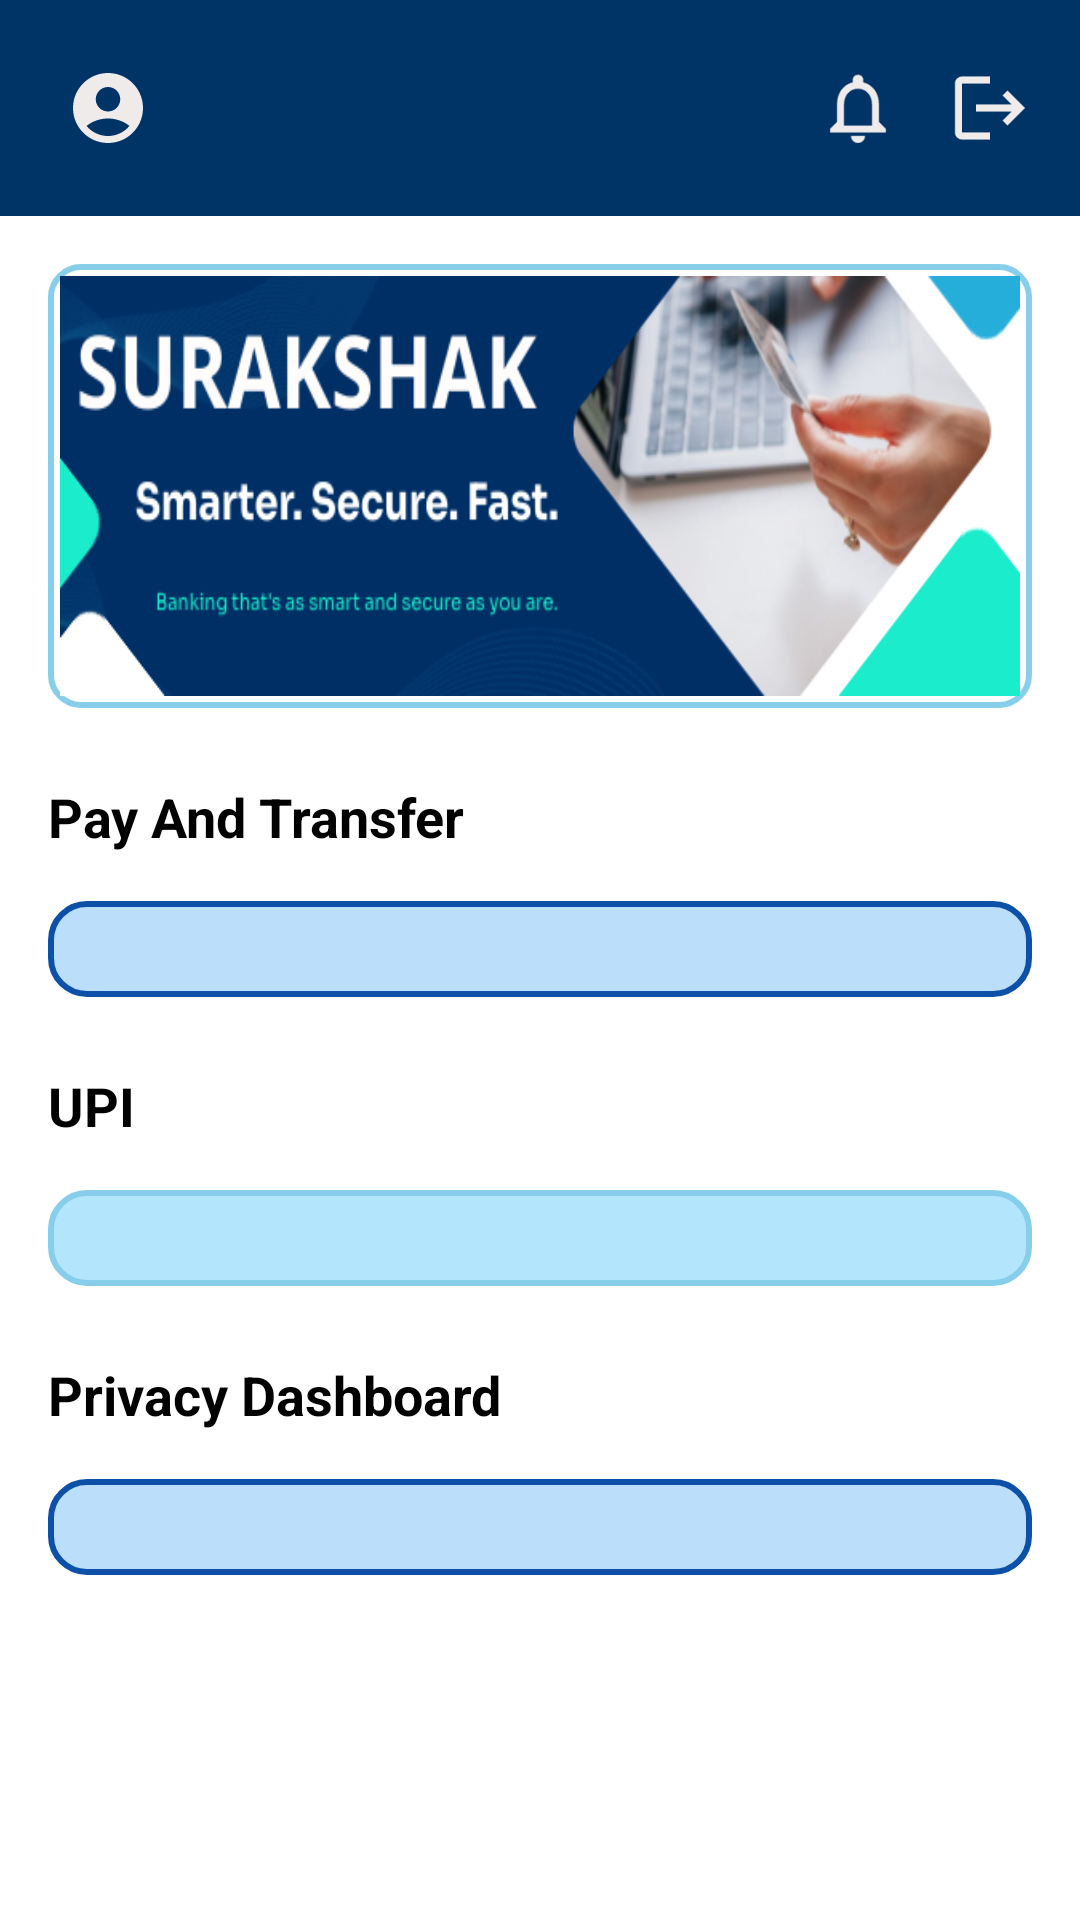

Point at icon controls on the screen. Image size 1080px×1920px, points as point (x, y).
notification: point (858, 108)
user: point (108, 108)
